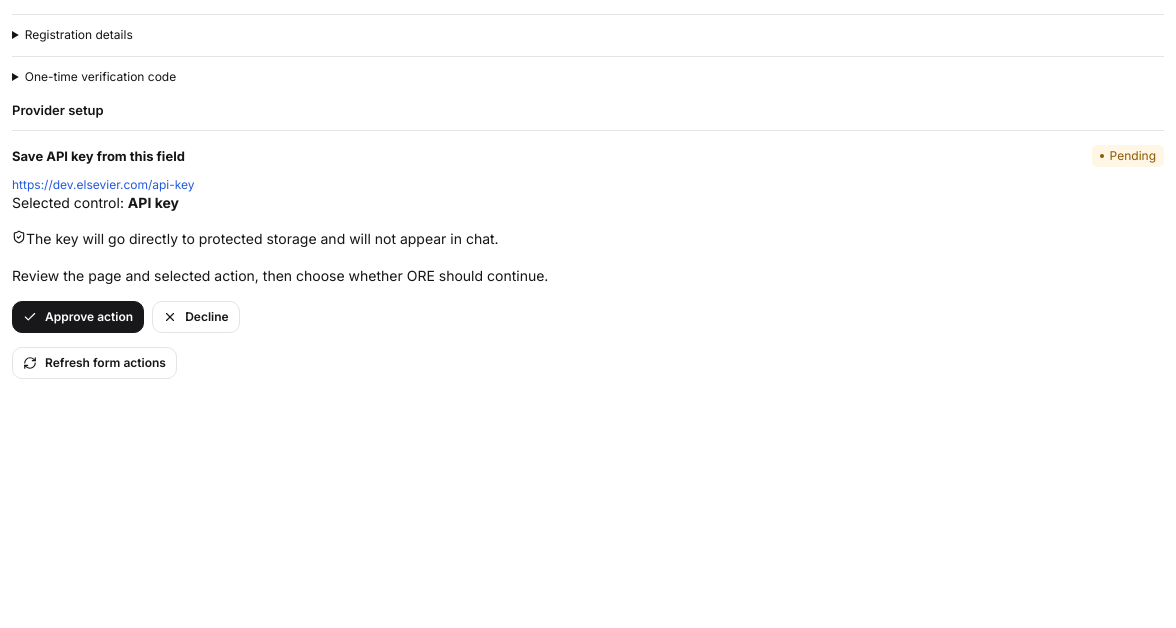
it: reviewed provider setup actions in chat › loads and saves only named registration details through their own endpoint
This screenshot has width=1176, height=628.
Click the heading "Registration details".
click(79, 34)  # box left=25, top=27, right=133, bottom=42
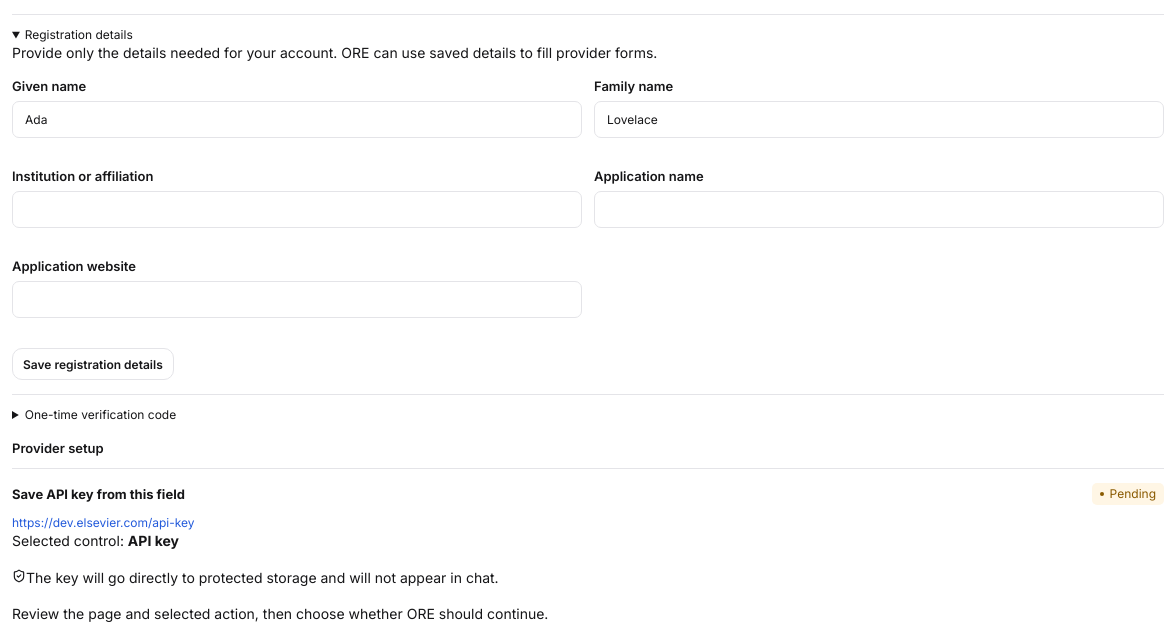
Now the field labelled "Given name" holds "Ada", box left=12, top=101, right=582, bottom=138
Type "Example University" into the field labelled "Institution or affiliation".
click(297, 210); type("Example University")  # box left=12, top=191, right=582, bottom=228
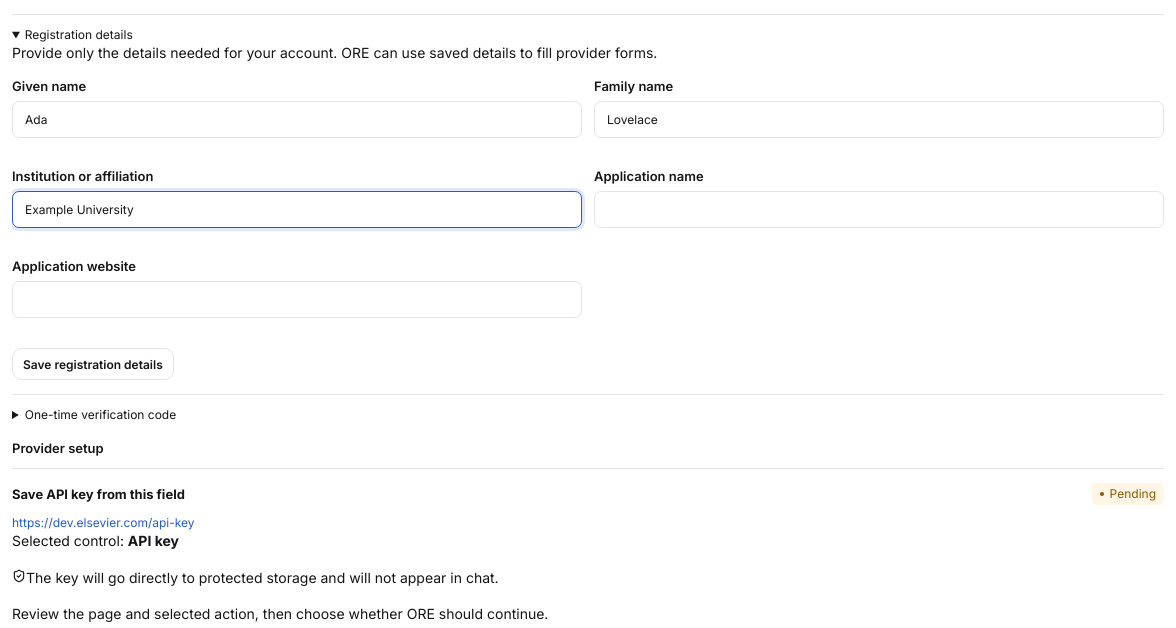
Click the button "Save registration details".
click(93, 364)  # box left=12, top=348, right=174, bottom=380
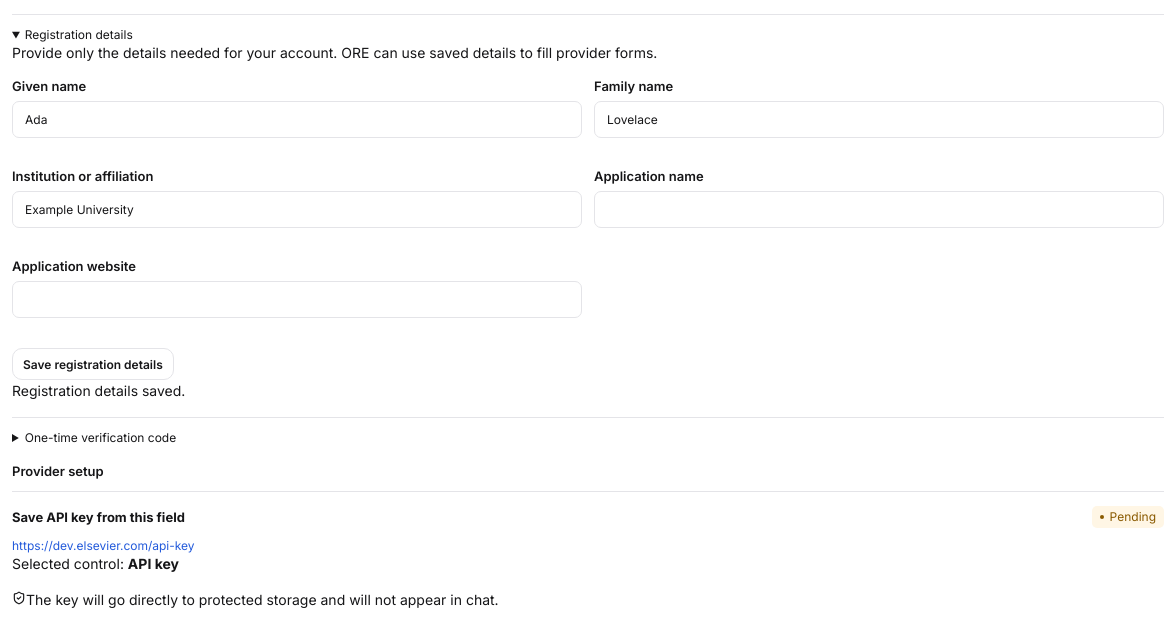
Now the text "Registration details saved." is shown, box left=12, top=382, right=185, bottom=399
